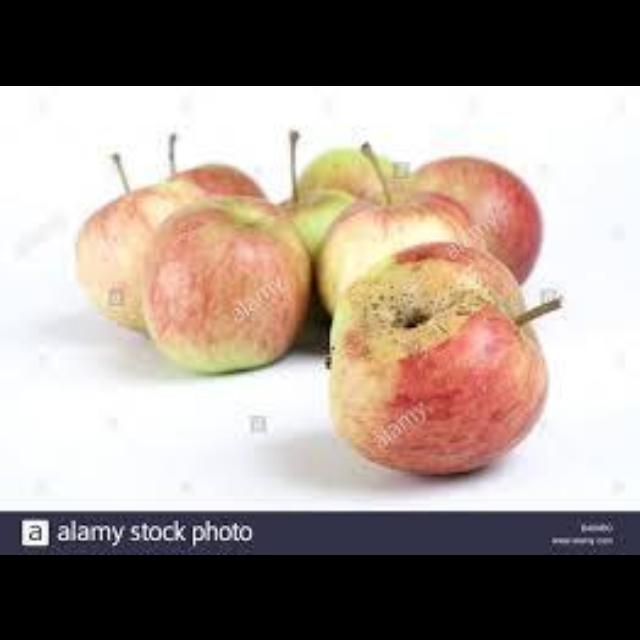apple: (330, 239, 555, 473), (76, 134, 264, 329), (142, 195, 310, 371), (315, 141, 481, 312), (408, 153, 540, 280)
pest: (339, 263, 488, 364)
